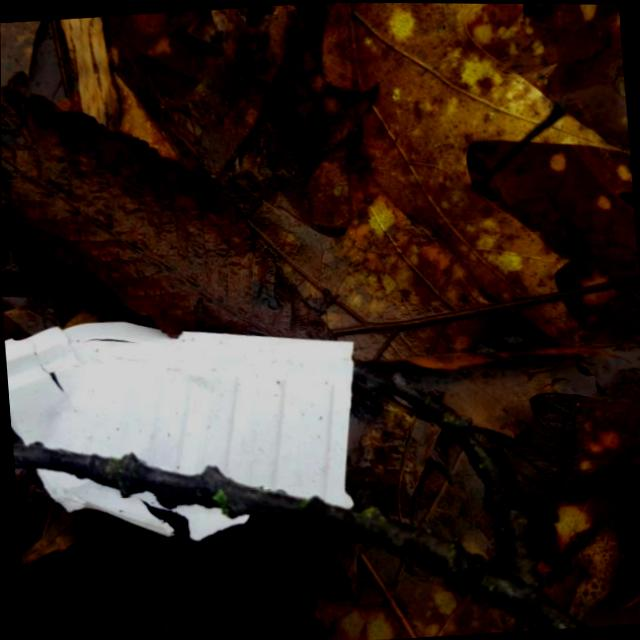Plastic: (2, 298, 369, 555)
